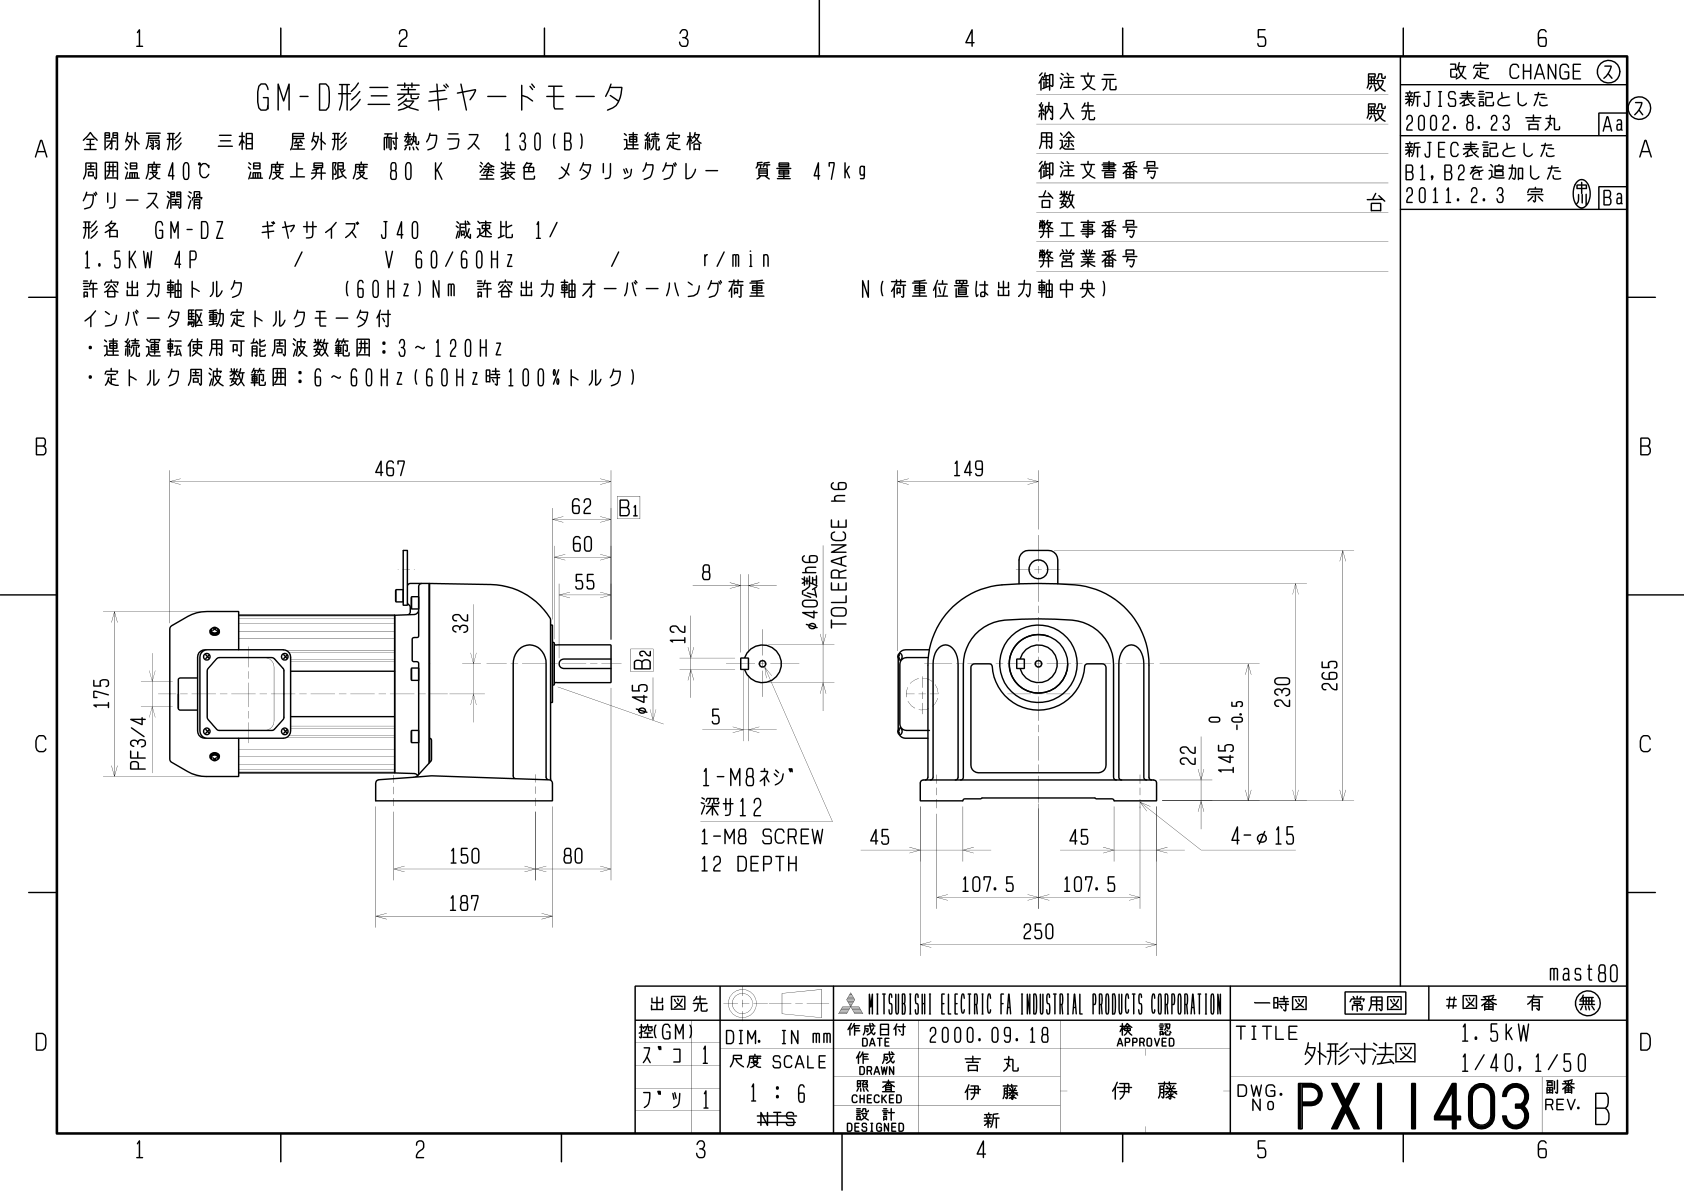GM_D_インバータ屋外_三相_脚: (3, 6, 1684, 1191)
